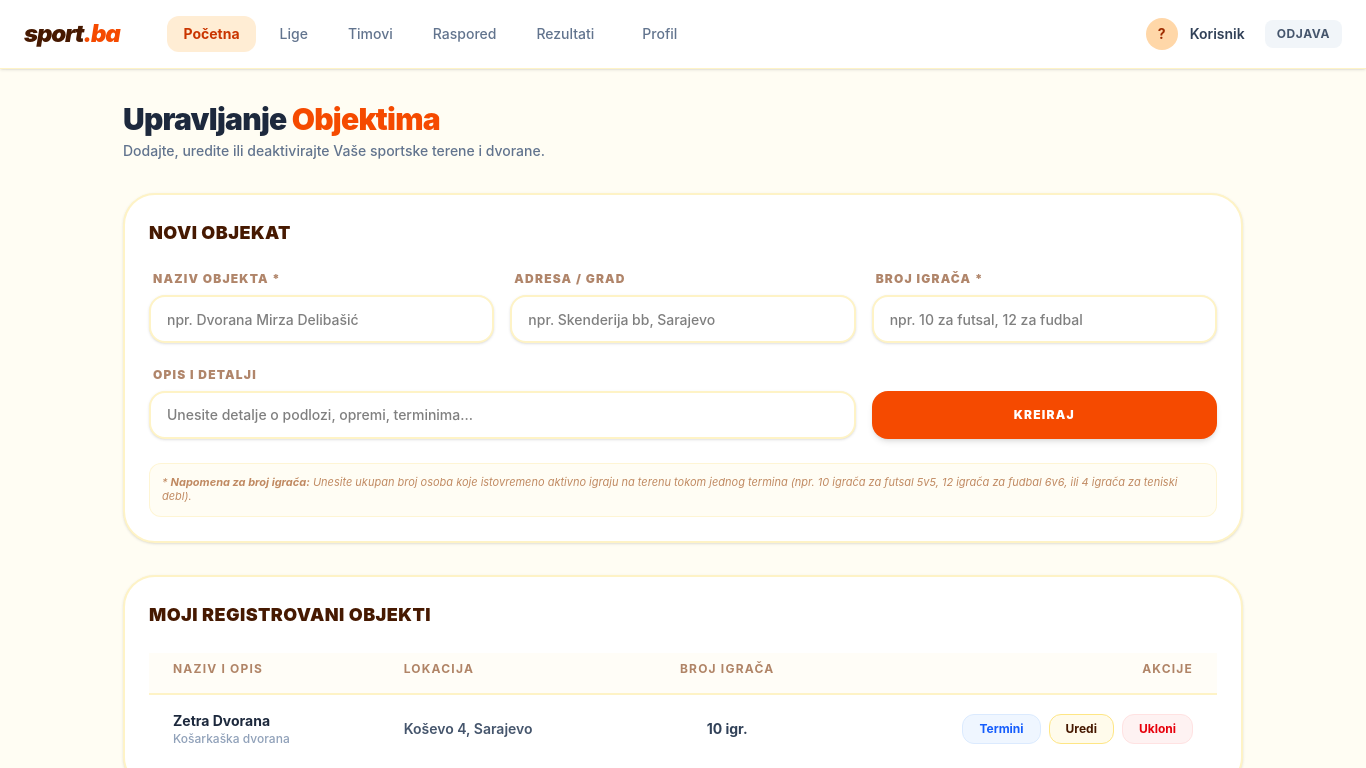
Test: Uređivanje objekta › klik na "Uredi" popunjava formu s podacima objekta
The image size is (1366, 768).
Check: the text "Zetra Dvorana" is shown, box [173,712,270,728]
What coordinates should you click on to do the following:
click the button "Uredi"
I would click on:
 (1081, 728)
Its box is [1049,714,1114,744].
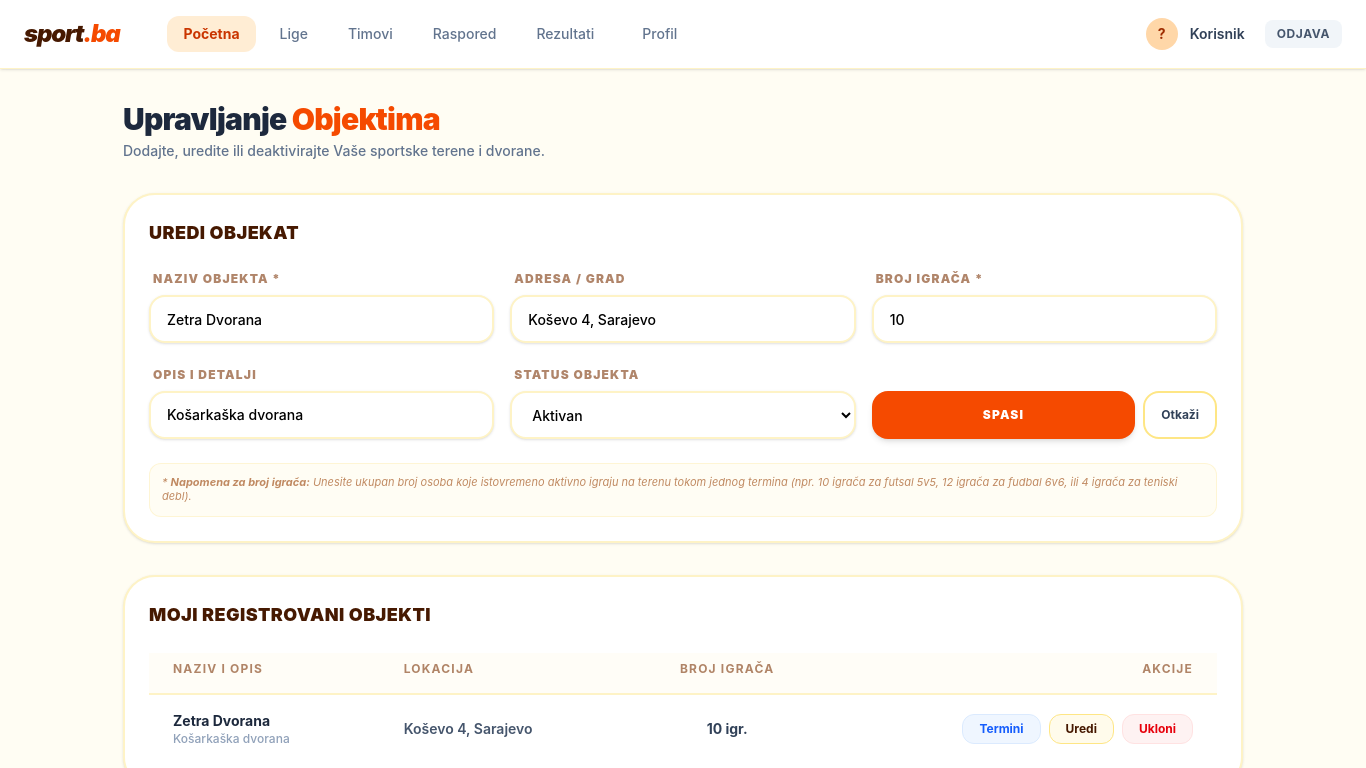
Check: the field showing "Zetra Dvorana" below "Naziv objekta *" is shown, box [149,295,494,343]
Check: the field showing "Koševo 4, Sarajevo" below "Adresa / Grad" is shown, box [510,295,856,343]
